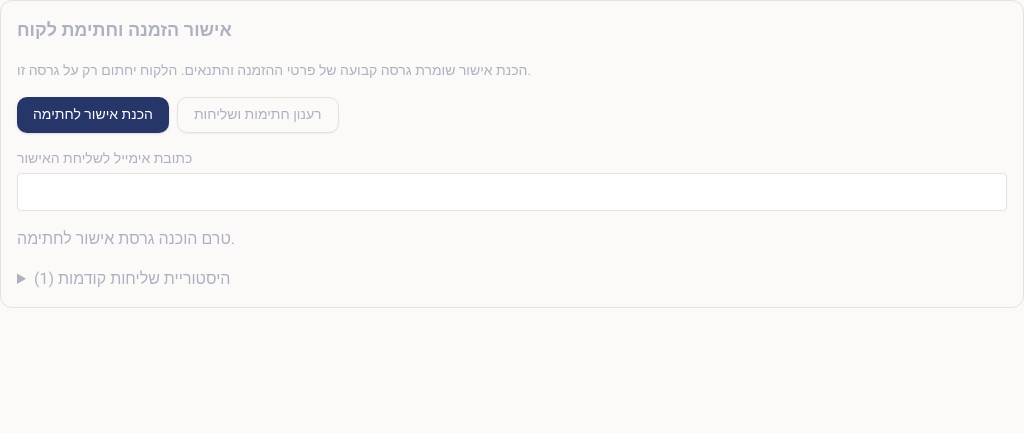
Scenario: prepares without customer setup even when older history returns missing billing fields
The width and height of the screenshot is (1024, 433).
Check: the text "טרם הוכנה גרסת אישור לחתימה." is shown, box [17, 227, 235, 251]
Click the button "הכנת אישור לחתימה" at (93, 115), box [17, 97, 169, 133]
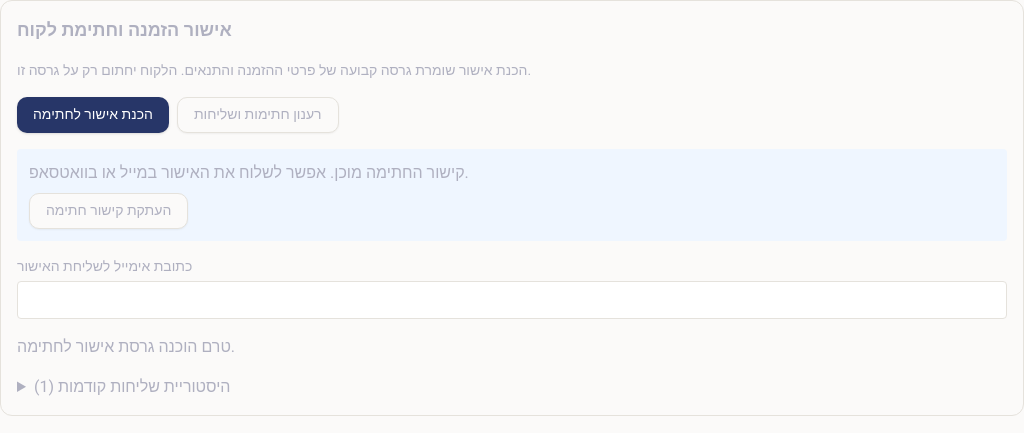
Check: the button "העתקת קישור חתימה" is shown, box [29, 193, 188, 229]
